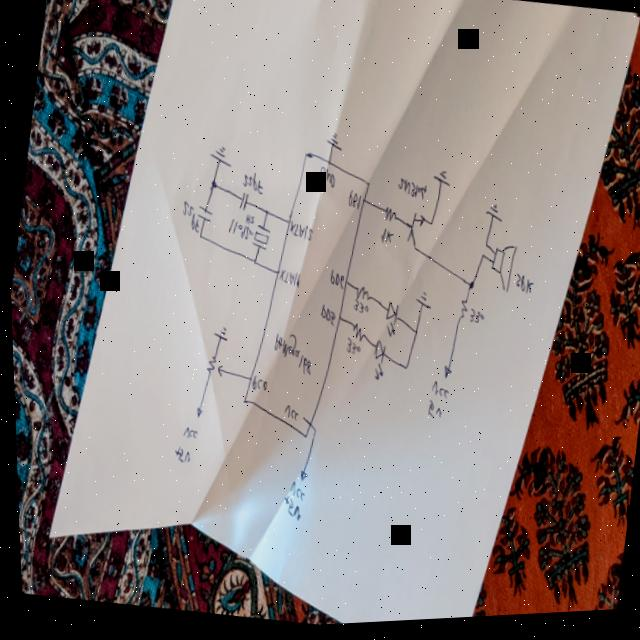capacitor: (195, 208, 212, 227), (236, 193, 248, 217)
diode: (366, 337, 388, 388), (377, 303, 399, 349)
ground: (206, 146, 233, 172), (322, 133, 344, 158), (410, 294, 432, 318), (482, 207, 503, 230), (429, 173, 451, 194), (208, 327, 228, 347)
junction: (207, 182, 216, 193), (307, 430, 315, 441), (480, 245, 487, 257), (399, 367, 406, 378), (465, 285, 472, 296), (409, 332, 416, 343), (477, 257, 484, 267), (249, 261, 256, 270), (262, 211, 268, 221), (427, 224, 432, 233), (196, 236, 201, 243)
resistor: (202, 355, 224, 385), (346, 325, 365, 350), (453, 303, 468, 329), (351, 289, 369, 310), (380, 210, 397, 230)
source: (438, 369, 450, 386), (294, 472, 305, 487), (191, 407, 201, 423)
text: (265, 331, 315, 384), (224, 214, 254, 247), (393, 181, 427, 208), (177, 202, 202, 238), (239, 171, 265, 199), (285, 223, 313, 249), (276, 497, 299, 526), (275, 270, 300, 296), (511, 277, 533, 303), (314, 307, 335, 332), (426, 384, 448, 407), (315, 170, 336, 194), (168, 446, 189, 470), (324, 272, 344, 295), (283, 484, 304, 505), (423, 403, 440, 426), (344, 194, 361, 216), (247, 379, 266, 397), (279, 407, 297, 426), (341, 343, 359, 361), (377, 230, 392, 251), (349, 304, 367, 321), (465, 315, 483, 331), (178, 428, 196, 444)
transistor: (401, 215, 426, 257)
